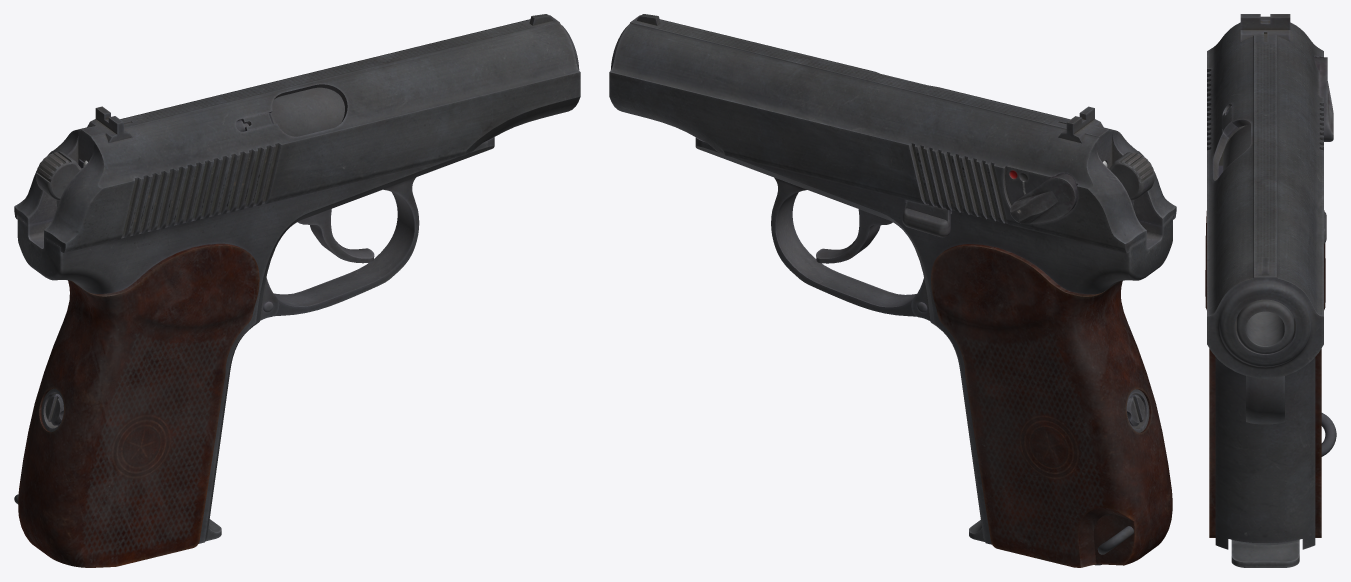
Rendered from makarov_pistol.glb.
3 renders of one model, left to right at view 1: azimuth 30°, elevation 25°; view 2: azimuth 150°, elevation 25°; view 3: azimuth 270°, elevation 25°, orthographic. The views are drawn at different scales.
Visible parts, largest first — view 1: Slider1_low.001, Handle1_low.001, Body1_low.001, TriggerGuard1_low.001, Barrel1_low.001, Hummer1_low.001, Trigger1_low.001; view 2: Slider1_low.001, Handle1_low.001, Body1_low.001, TriggerGuard1_low.001, Lever1_low.001, Hummer1_low.001, Trigger1_low.001, Lever2_low.001; view 3: Slider1_low.001, Body1_low.001, Barrel1_low.001, Handle1_low.001, TriggerGuard1_low.001, Mag1_low.001, Lever1_low.001, Ring1_low.001, Thing1_low.001.
Boxes of the visible parts, bbox=[...] form: Slider1_low.001: bbox=[14, 14, 580, 252]; Handle1_low.001: bbox=[18, 243, 259, 567]; Body1_low.001: bbox=[17, 137, 494, 543]; TriggerGuard1_low.001: bbox=[273, 177, 419, 316]; Barrel1_low.001: bbox=[270, 87, 344, 136]; Hummer1_low.001: bbox=[36, 151, 81, 206]; Trigger1_low.001: bbox=[297, 208, 374, 263]; Slider1_low.001: bbox=[609, 14, 1176, 253]; Handle1_low.001: bbox=[931, 244, 1172, 567]; Body1_low.001: bbox=[695, 137, 1172, 544]; TriggerGuard1_low.001: bbox=[771, 177, 916, 316]; Lever1_low.001: bbox=[1010, 173, 1077, 223]; Hummer1_low.001: bbox=[1109, 152, 1154, 207]; Trigger1_low.001: bbox=[816, 209, 892, 263]; Lever2_low.001: bbox=[902, 200, 951, 237]; Slider1_low.001: bbox=[1207, 14, 1323, 378]; Body1_low.001: bbox=[1215, 165, 1315, 549]; Barrel1_low.001: bbox=[1223, 125, 1294, 354]; Handle1_low.001: bbox=[1205, 210, 1325, 537]; TriggerGuard1_low.001: bbox=[1246, 376, 1284, 424]; Mag1_low.001: bbox=[1231, 539, 1299, 567]; Lever1_low.001: bbox=[1314, 57, 1333, 141]; Ring1_low.001: bbox=[1321, 413, 1336, 456]; Thing1_low.001: bbox=[1222, 106, 1237, 137].
Size of the model in its own units: 0.1615 by 0.1286 by 0.0303.
1 material, 1 textured.
